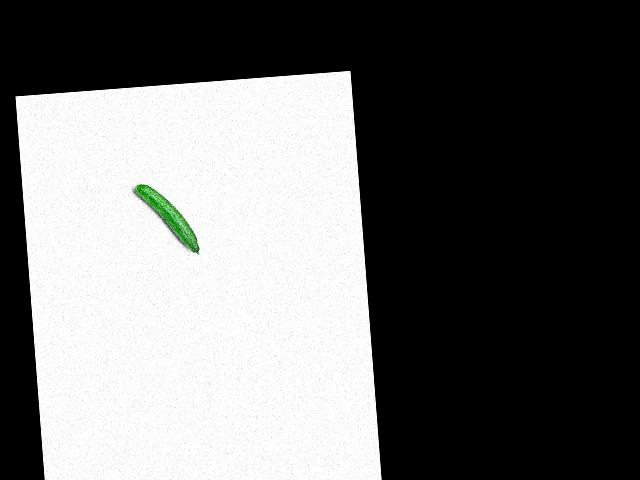cucumber: (133, 180, 199, 260)
